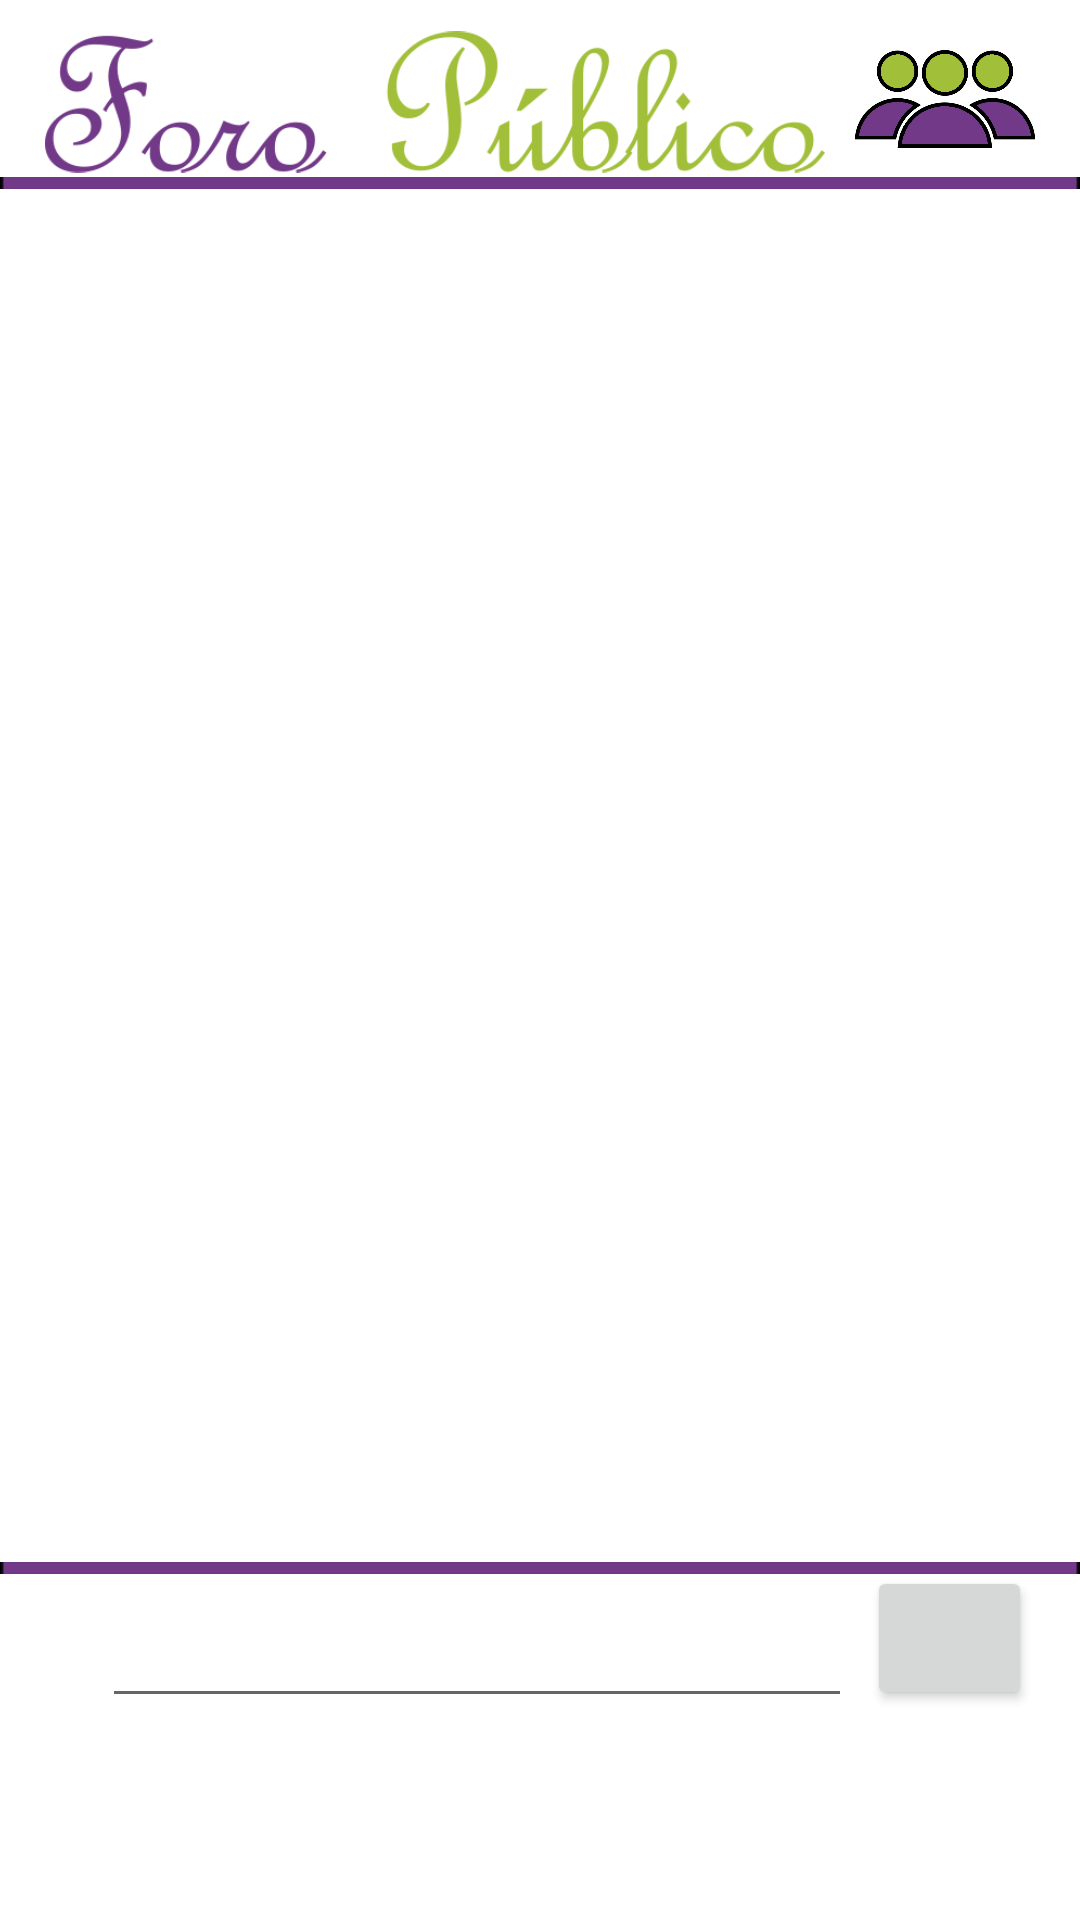

Screen size 1080 x 1920. Icon name, then its center in pixels as (x=x, y=y):
todos usuarios sc: (x=945, y=99)
